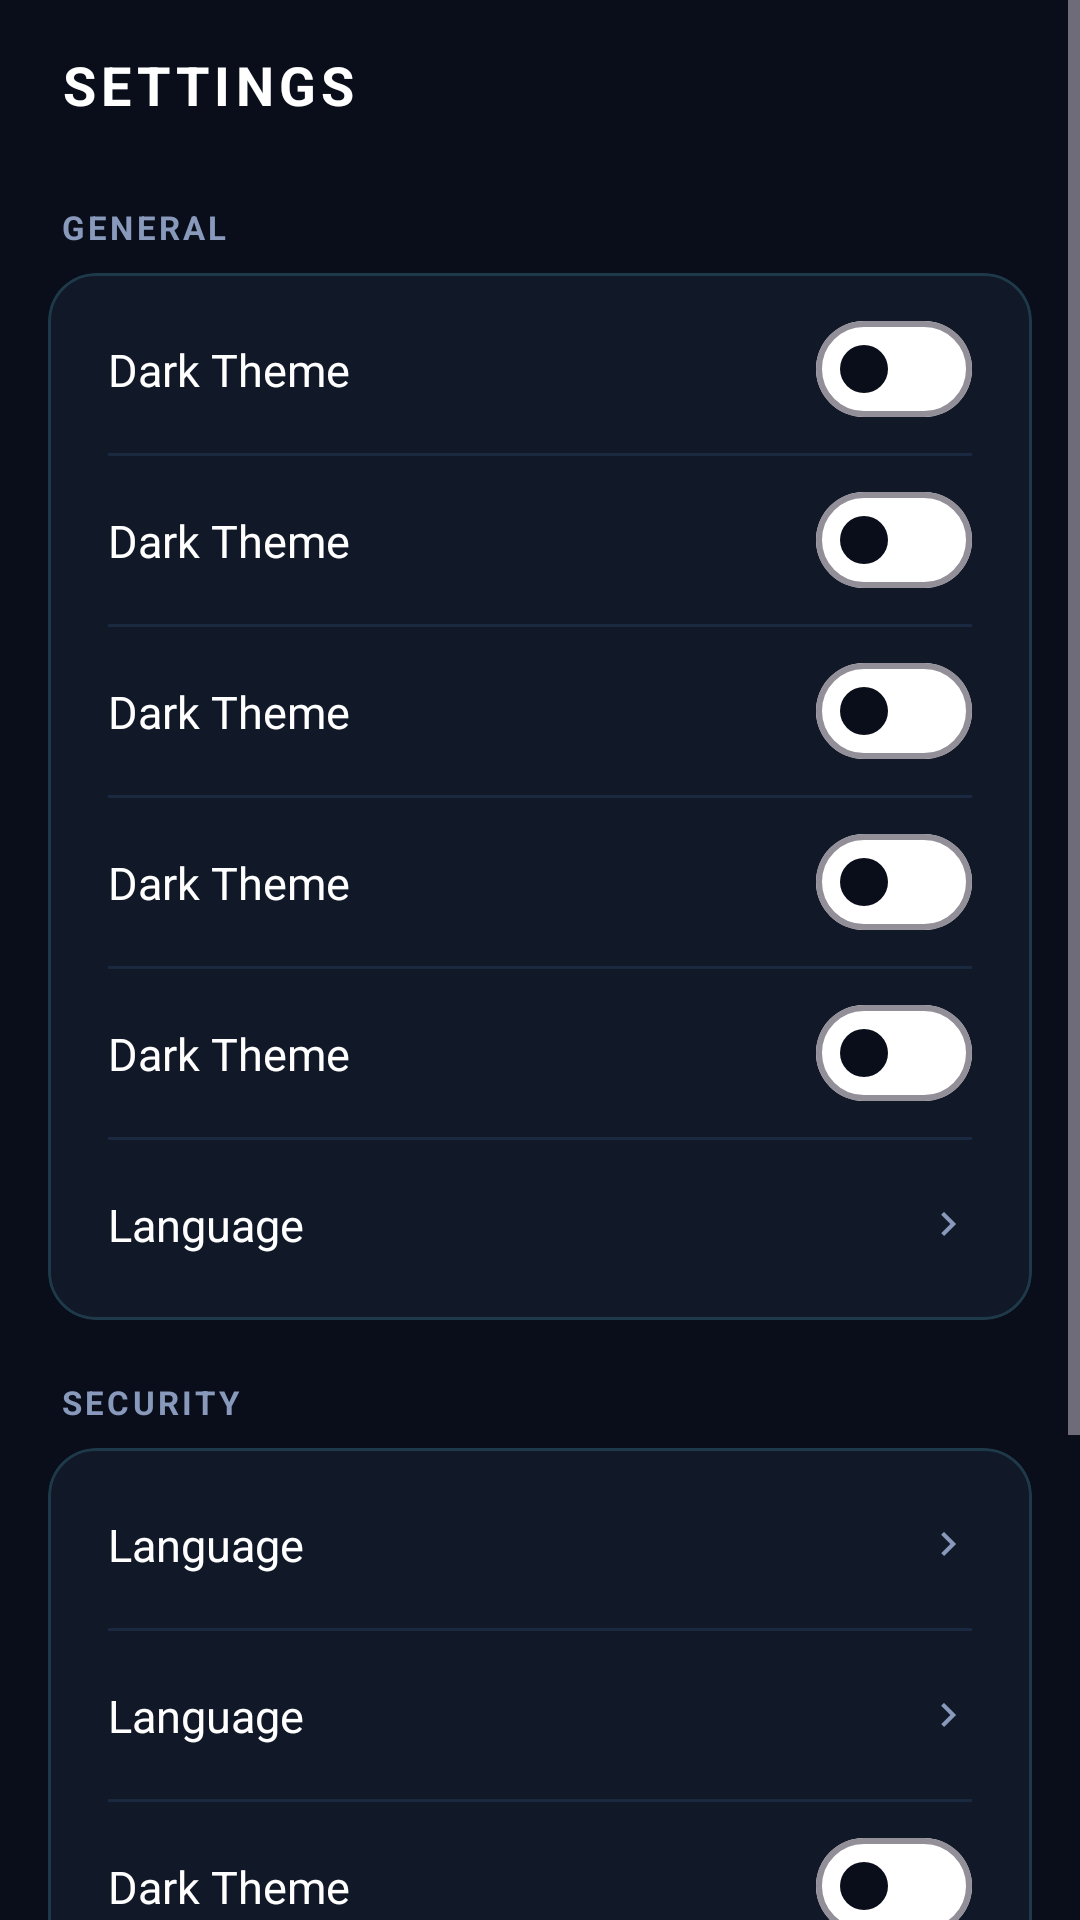

Icon bounding boxes for this 1080w x 1920h phone screenshot, format [x1, y1, x2, y2]:
arrow right: [941, 1212, 956, 1236], [941, 1532, 956, 1556], [941, 1703, 956, 1727]
